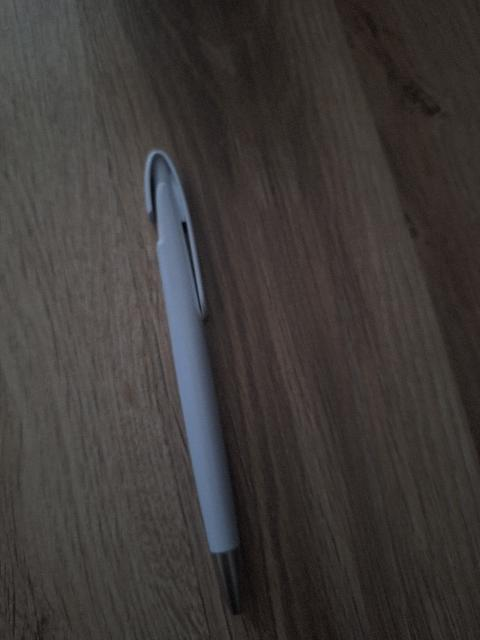writing_tool: (133, 146, 248, 623)
